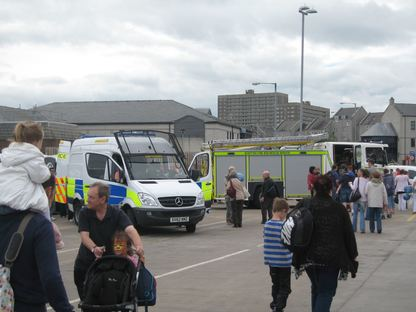ambulance: (63, 131, 211, 233)
